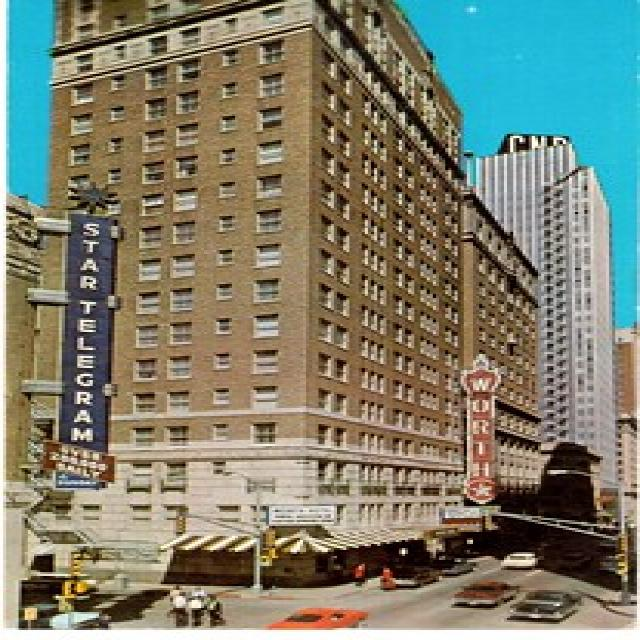Normal_building: (31, 2, 547, 562)
